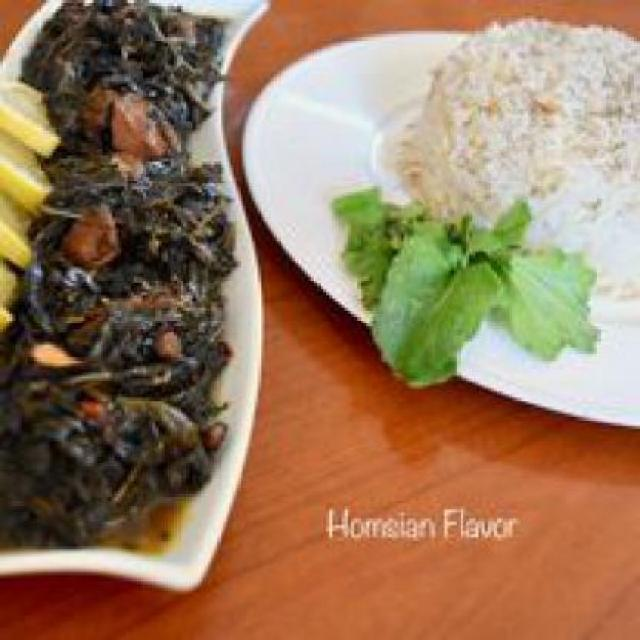fried rice: (397, 3, 637, 274)
